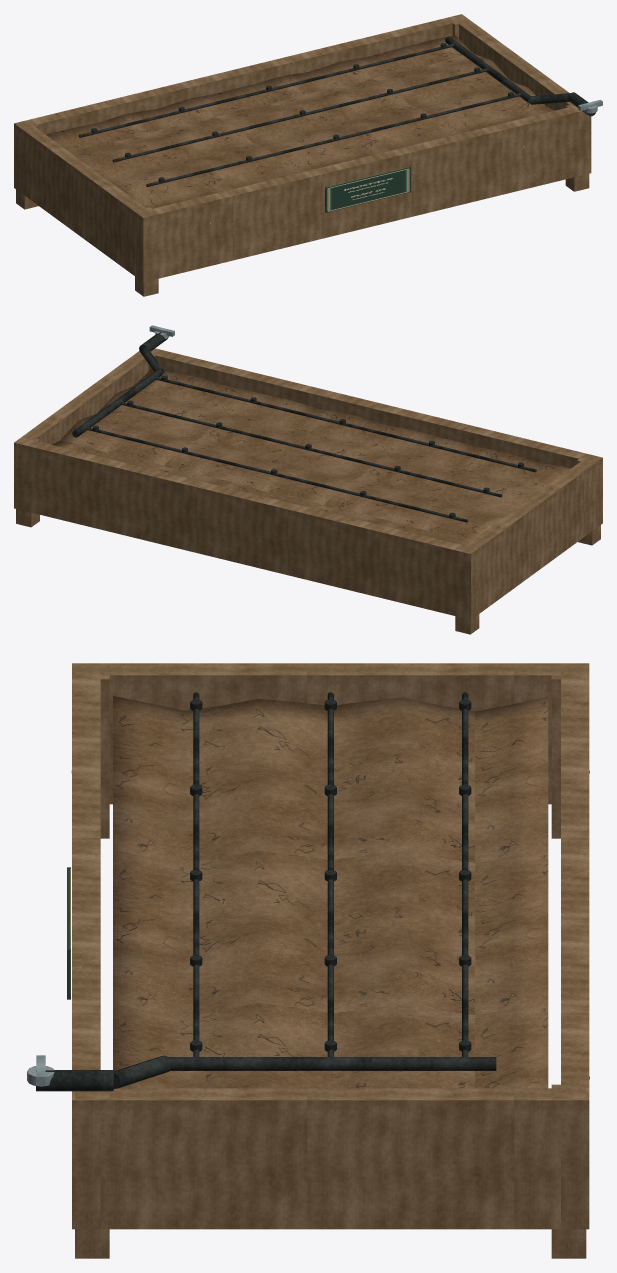
The model's file is PZ_Garden_Dry_Empty.glb.
The picture shows the model from 3 angles, top to bottom: view 1: azimuth 30°, elevation 25°; view 2: azimuth 150°, elevation 25°; view 3: azimuth 270°, elevation 25°; orthographic projection. The views are drawn at different scales.
Visible parts, largest first — view 1: SM_DRY_EMPTY_SOIL_DRY_NODE, SM_DRY_EMPTY_FRAME_FRONT_NODE, SM_DRY_EMPTY_FRAME_LEFT_NODE, SM_DRY_EMPTY_FRAME_REAR_NODE, SM_DRY_EMPTY_FRAME_RIGHT_NODE, SM_DRY_EMPTY_ROOKFIELD_ALLOTMENT_TAG_NODE, SM_DRY_EMPTY_DRIP_LINE_ROW_3_NODE, SM_DRY_EMPTY_DRIP_LINE_ROW_2_NODE, SM_DRY_EMPTY_DRIP_LINE_ROW_1_NODE, SM_DRY_EMPTY_IRRIGATION_MANIFOLD_NODE, SM_DRY_EMPTY_CORNER_POST_-0.961_-0.461_NODE; view 2: SM_DRY_EMPTY_SOIL_DRY_NODE, SM_DRY_EMPTY_FRAME_REAR_NODE, SM_DRY_EMPTY_FRAME_LEFT_NODE, SM_DRY_EMPTY_FRAME_FRONT_NODE, SM_DRY_EMPTY_FRAME_RIGHT_NODE, SM_DRY_EMPTY_DRIP_LINE_ROW_2_NODE, SM_DRY_EMPTY_DRIP_LINE_ROW_3_NODE, SM_DRY_EMPTY_DRIP_LINE_ROW_1_NODE, SM_DRY_EMPTY_IRRIGATION_MANIFOLD_NODE; view 3: SM_DRY_EMPTY_SOIL_DRY_NODE, SM_DRY_EMPTY_FRAME_RIGHT_NODE, SM_DRY_EMPTY_FRAME_LEFT_NODE, SM_DRY_EMPTY_FRAME_REAR_NODE, SM_DRY_EMPTY_FRAME_FRONT_NODE, SM_DRY_EMPTY_IRRIGATION_MANIFOLD_NODE, SM_DRY_EMPTY_DRIP_LINE_ROW_2_NODE, SM_DRY_EMPTY_DRIP_LINE_ROW_1_NODE, SM_DRY_EMPTY_DRIP_LINE_ROW_3_NODE, SM_DRY_EMPTY_CORNER_POST_-0.961_0.461_NODE, SM_DRY_EMPTY_CORNER_POST_-0.961_-0.461_NODE, SM_DRY_EMPTY_CORNER_POST_0.961_0.461_NODE (+3 smaller).
Boxes of the visible parts, x1,y1,x2,y2 form: SM_DRY_EMPTY_SOIL_DRY_NODE: [46, 35, 554, 208]; SM_DRY_EMPTY_FRAME_FRONT_NODE: [136, 106, 591, 282]; SM_DRY_EMPTY_FRAME_LEFT_NODE: [21, 125, 146, 276]; SM_DRY_EMPTY_FRAME_REAR_NODE: [14, 14, 468, 192]; SM_DRY_EMPTY_FRAME_RIGHT_NODE: [457, 19, 574, 110]; SM_DRY_EMPTY_ROOKFIELD_ALLOTMENT_TAG_NODE: [325, 166, 410, 212]; SM_DRY_EMPTY_DRIP_LINE_ROW_3_NODE: [79, 43, 453, 137]; SM_DRY_EMPTY_DRIP_LINE_ROW_2_NODE: [112, 68, 487, 162]; SM_DRY_EMPTY_DRIP_LINE_ROW_1_NODE: [146, 93, 521, 186]; SM_DRY_EMPTY_IRRIGATION_MANIFOLD_NODE: [445, 36, 530, 103]; SM_DRY_EMPTY_CORNER_POST_-0.961_-0.461_NODE: [135, 207, 158, 296]; SM_DRY_EMPTY_SOIL_DRY_NODE: [52, 368, 570, 544]; SM_DRY_EMPTY_FRAME_REAR_NODE: [14, 437, 478, 619]; SM_DRY_EMPTY_FRAME_LEFT_NODE: [466, 461, 595, 614]; SM_DRY_EMPTY_FRAME_FRONT_NODE: [139, 348, 602, 528]; SM_DRY_EMPTY_FRAME_RIGHT_NODE: [21, 351, 148, 444]; SM_DRY_EMPTY_DRIP_LINE_ROW_2_NODE: [119, 401, 502, 497]; SM_DRY_EMPTY_DRIP_LINE_ROW_3_NODE: [85, 426, 467, 522]; SM_DRY_EMPTY_DRIP_LINE_ROW_1_NODE: [154, 376, 536, 472]; SM_DRY_EMPTY_IRRIGATION_MANIFOLD_NODE: [72, 369, 162, 437]; SM_DRY_EMPTY_SOIL_DRY_NODE: [113, 696, 548, 1088]; SM_DRY_EMPTY_FRAME_RIGHT_NODE: [100, 1088, 560, 1229]; SM_DRY_EMPTY_FRAME_LEFT_NODE: [100, 663, 560, 804]; SM_DRY_EMPTY_FRAME_REAR_NODE: [561, 663, 589, 1229]; SM_DRY_EMPTY_FRAME_FRONT_NODE: [72, 663, 100, 1229]; SM_DRY_EMPTY_IRRIGATION_MANIFOLD_NODE: [168, 1057, 496, 1070]; SM_DRY_EMPTY_DRIP_LINE_ROW_2_NODE: [327, 692, 333, 1056]; SM_DRY_EMPTY_DRIP_LINE_ROW_1_NODE: [193, 692, 199, 1056]; SM_DRY_EMPTY_DRIP_LINE_ROW_3_NODE: [462, 692, 468, 1056]; SM_DRY_EMPTY_CORNER_POST_-0.961_0.461_NODE: [551, 665, 584, 838]; SM_DRY_EMPTY_CORNER_POST_-0.961_-0.461_NODE: [76, 665, 109, 838]; SM_DRY_EMPTY_CORNER_POST_0.961_0.461_NODE: [551, 1084, 586, 1258].
Bounding box in the file's own units: 2.01 × 0.396 × 1.09.
Materials: 5 (5 with a texture image).
